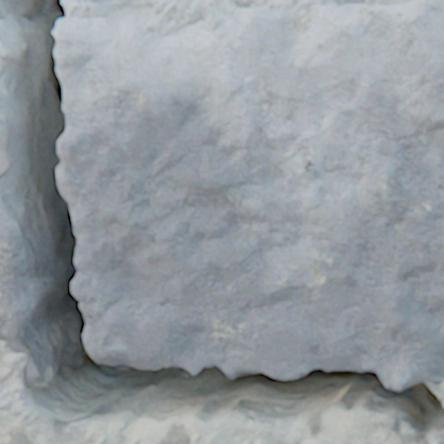broken_brick: (54, 0, 443, 390), (0, 203, 40, 382), (0, 85, 14, 191), (0, 21, 6, 76)
crack: (0, 0, 443, 443)
